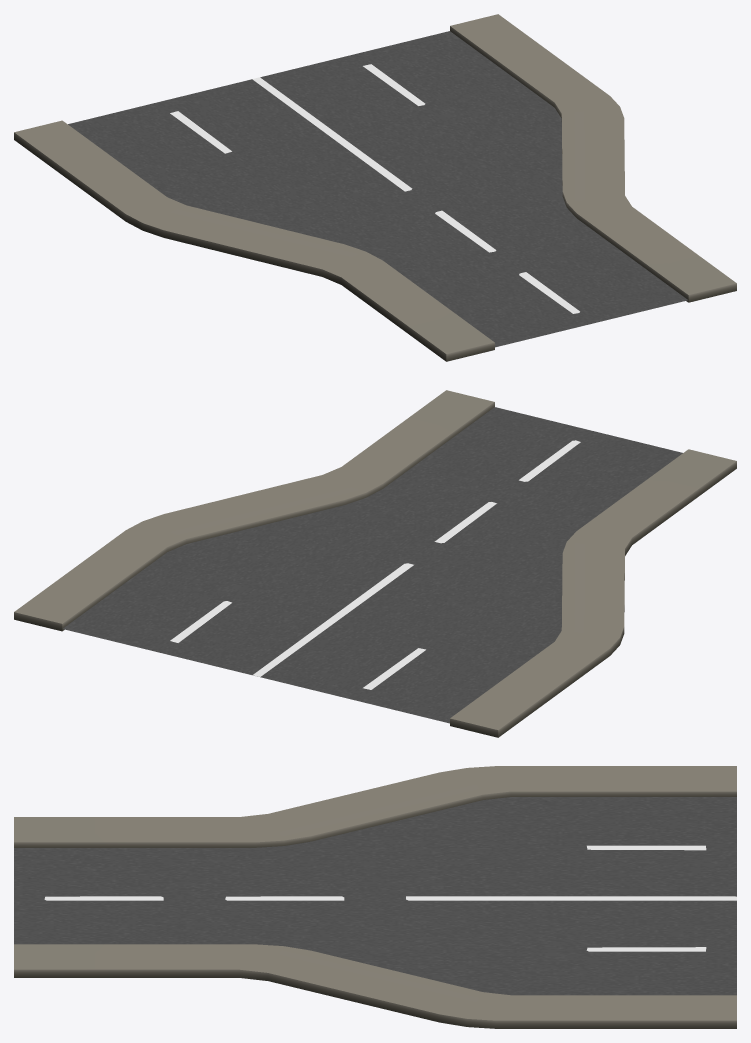
File: Road8.fbx
3 views of the same model, one above another, from view 1: azimuth 30°, elevation 25°; view 2: azimuth 150°, elevation 25°; view 3: azimuth 270°, elevation 25° (orthographic). The views are drawn at different scales.
Visible parts, largest first — view 1: Road_1N; view 2: Road_1N; view 3: Road_1N.
Part boxes in pixels (<box>): Road_1N: <box>14,14,736,361</box>; Road_1N: <box>14,390,736,737</box>; Road_1N: <box>14,766,736,1028</box>.
Bounding box in the file's own units: 37372 × 561 × 44847.
